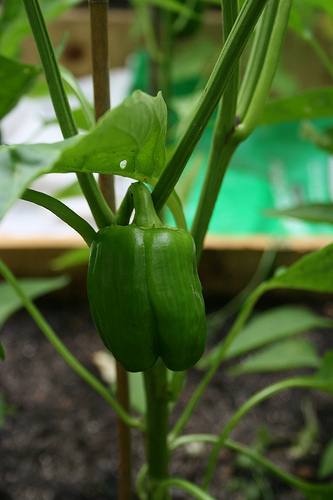capsicum: (86, 182, 210, 372)
